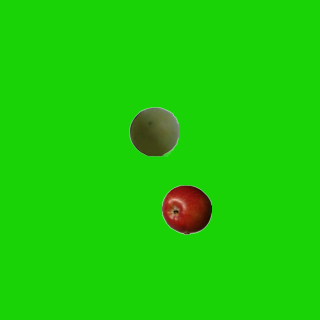Apple Braeburn: (161, 184, 211, 234)
Grape White 4: (128, 106, 178, 156)
